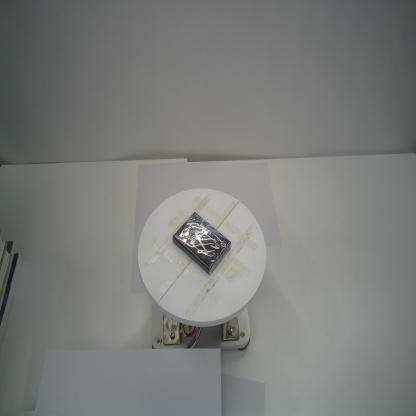Gum: (172, 211, 232, 276)
